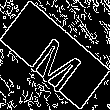M_NE: (24, 21, 86, 89)
